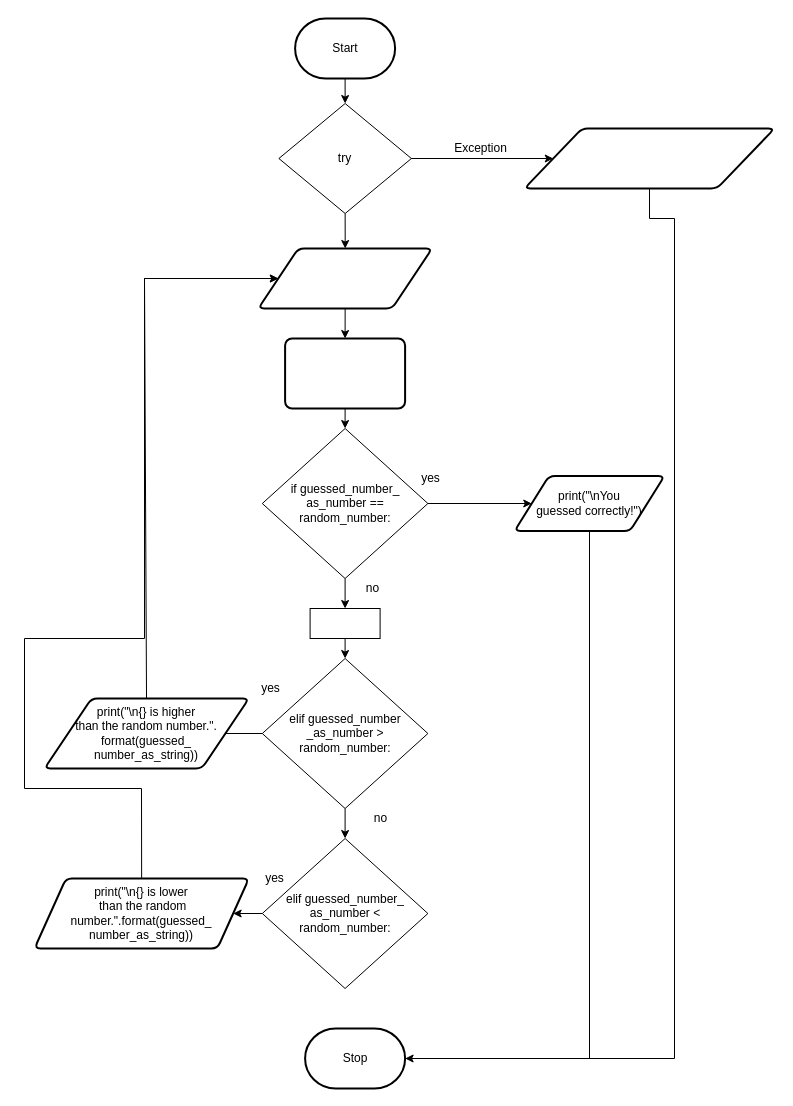
The diagram is 793 pixels wide and 1106 high, and some of its shapes have lost their labels. The centre of each missing label's shape, as x and y in pixels:
break: (x=344, y=623)
covert guessed_number_ as_number to string: (x=345, y=373)
Guess random number between 0-9: (x=345, y=278)
print("{0} is not a valid input".format(positive_string)): (x=649, y=158)
